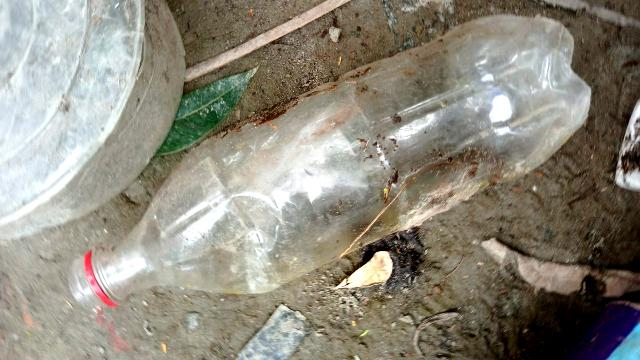bottle: (71, 2, 592, 345)
